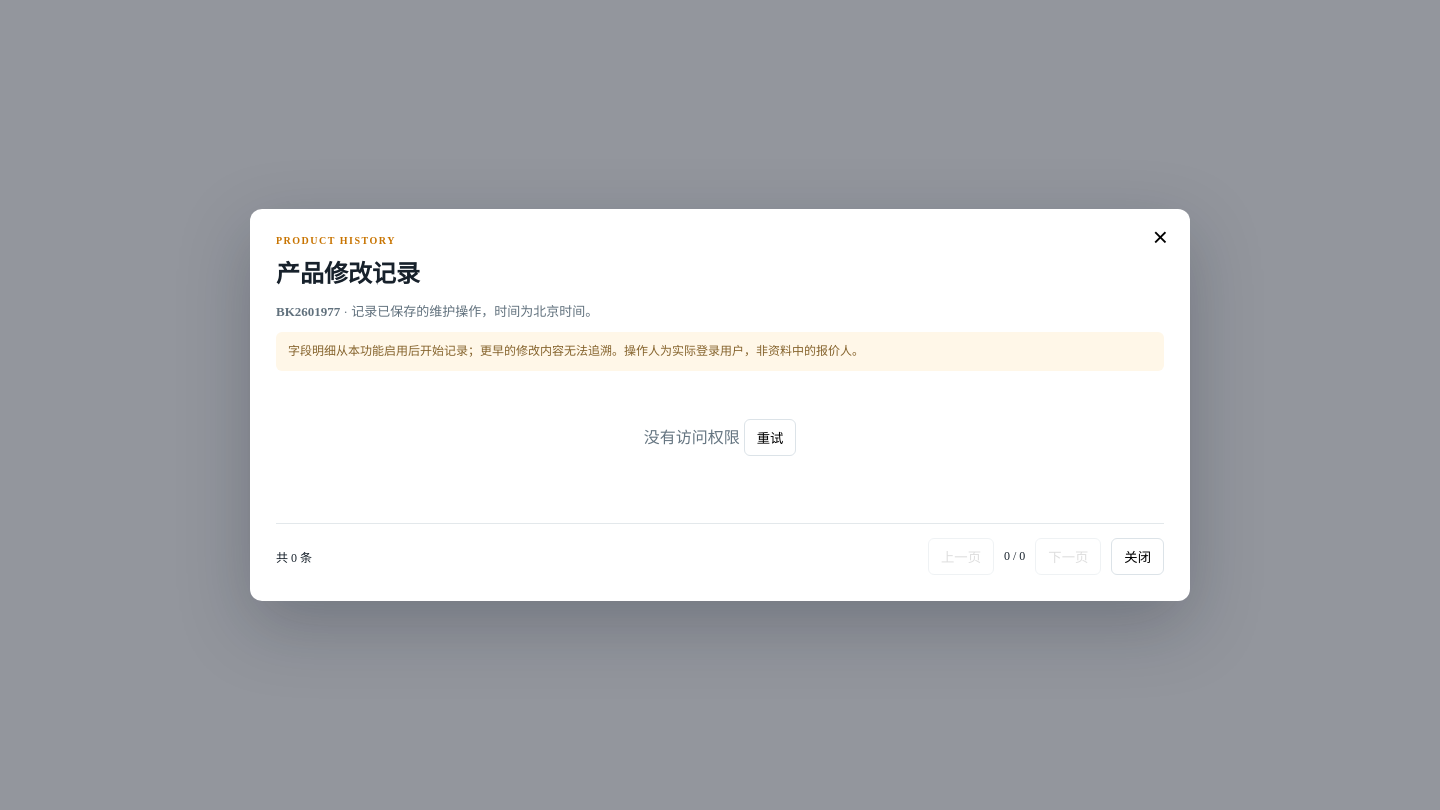
Test: shows retryable failures separately from empty history
This screenshot has width=1440, height=810.
Expected: the message "没有访问权限 重试" is shown, [644, 419, 796, 456]
Expected: the text "暂无修改记录" is not shown
Click the button "重试" at (770, 438), box [744, 419, 796, 456]
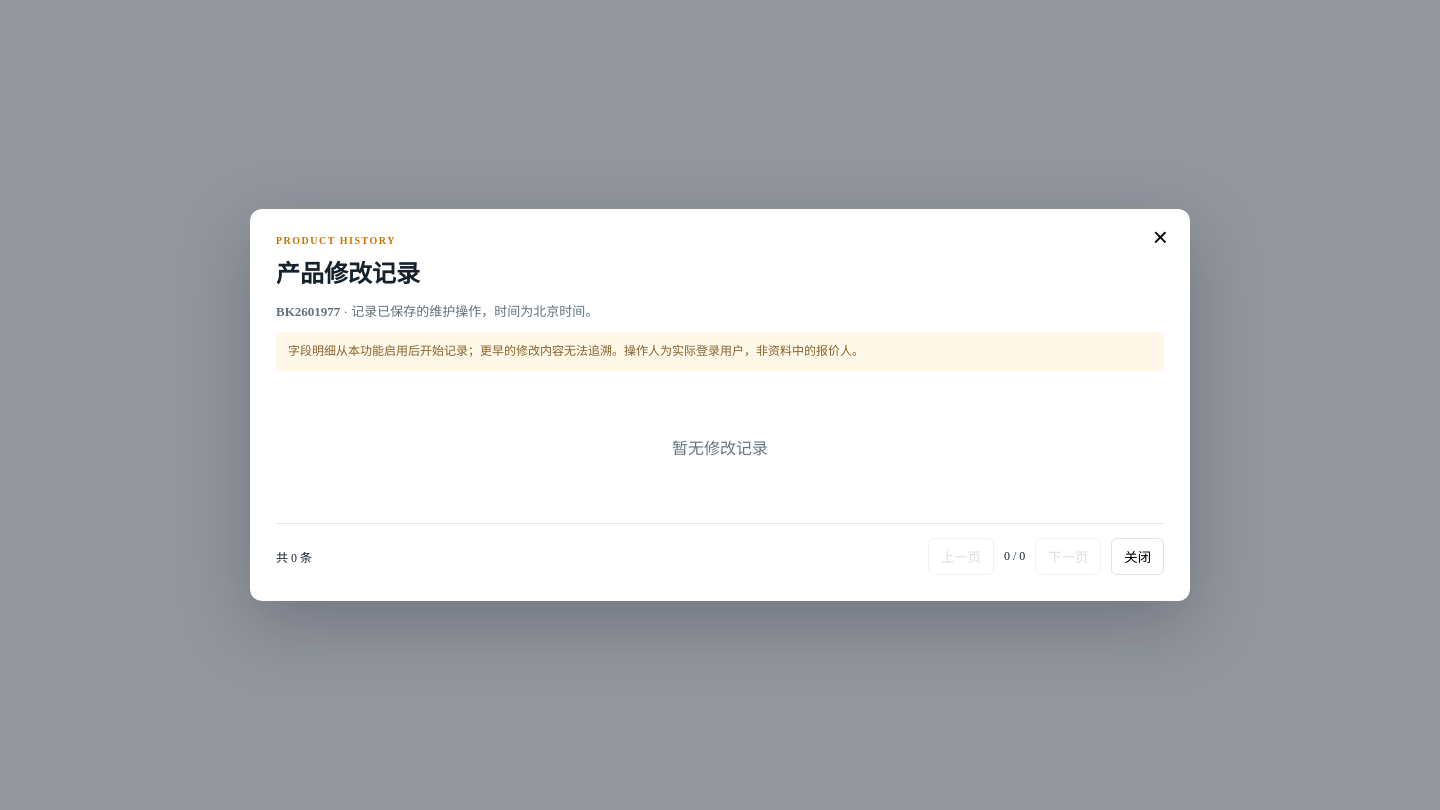
Result: the text "暂无修改记录" is shown at [672, 440, 768, 457]
